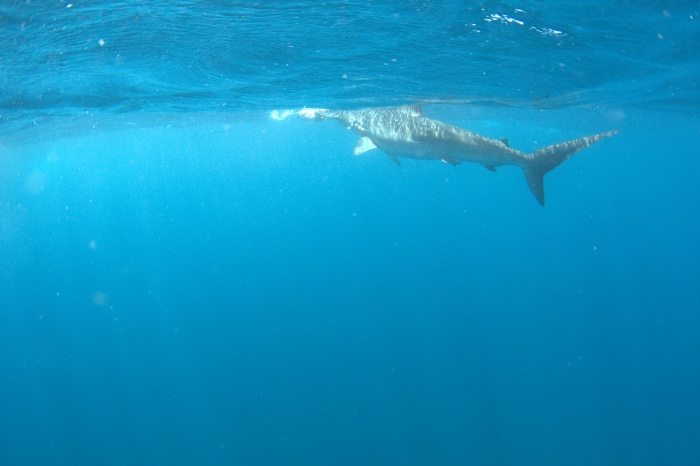Hammer: (263, 85, 618, 236)
